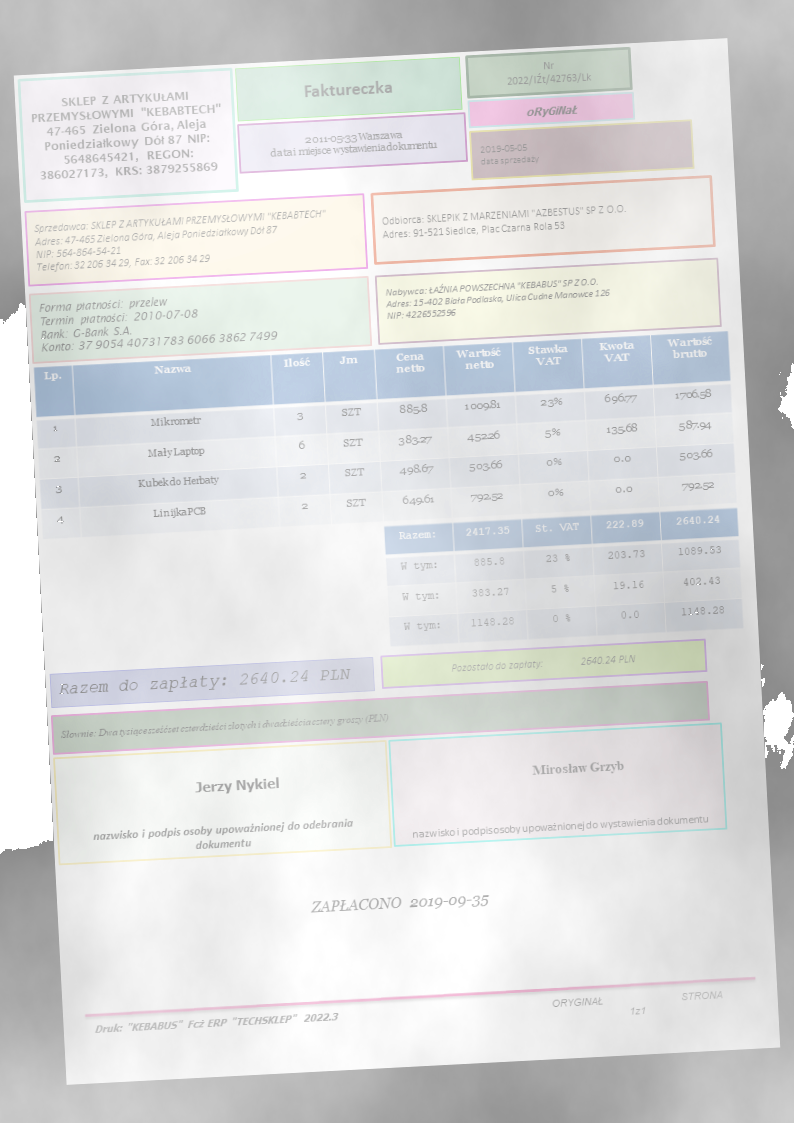Table: (31, 329, 739, 539), (382, 506, 745, 647)
TextBox: (30, 206, 329, 275), (27, 85, 227, 183), (35, 289, 279, 355), (382, 273, 612, 322), (58, 711, 391, 744), (379, 200, 628, 241), (56, 664, 352, 698), (93, 1008, 340, 1036), (266, 124, 440, 160), (549, 988, 726, 1021), (307, 889, 491, 918), (448, 651, 637, 675), (504, 55, 595, 89), (300, 77, 394, 101), (191, 774, 282, 797), (477, 140, 543, 169), (530, 758, 625, 778), (523, 101, 582, 119)
